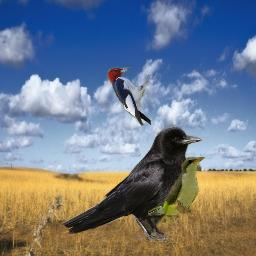Crow: (61, 126, 203, 242)
Cuckoo: (148, 155, 206, 224)
Woodpecker: (106, 65, 153, 127)
